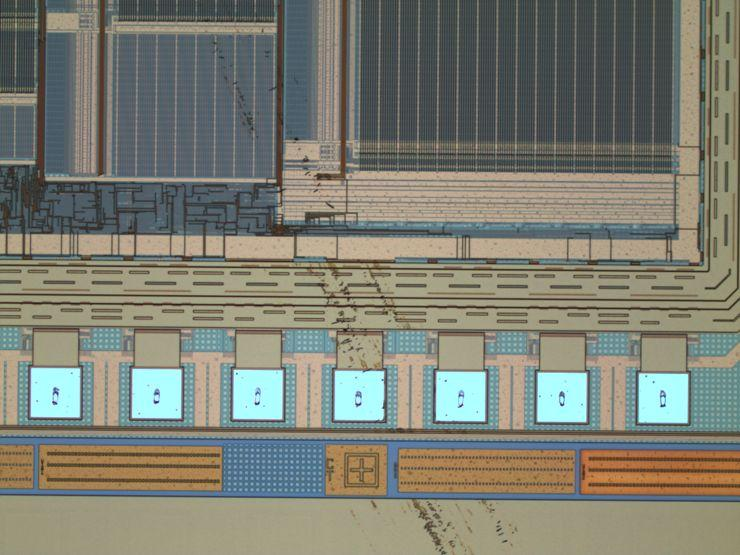PO CONTAMINATION: (169, 1, 528, 555)
